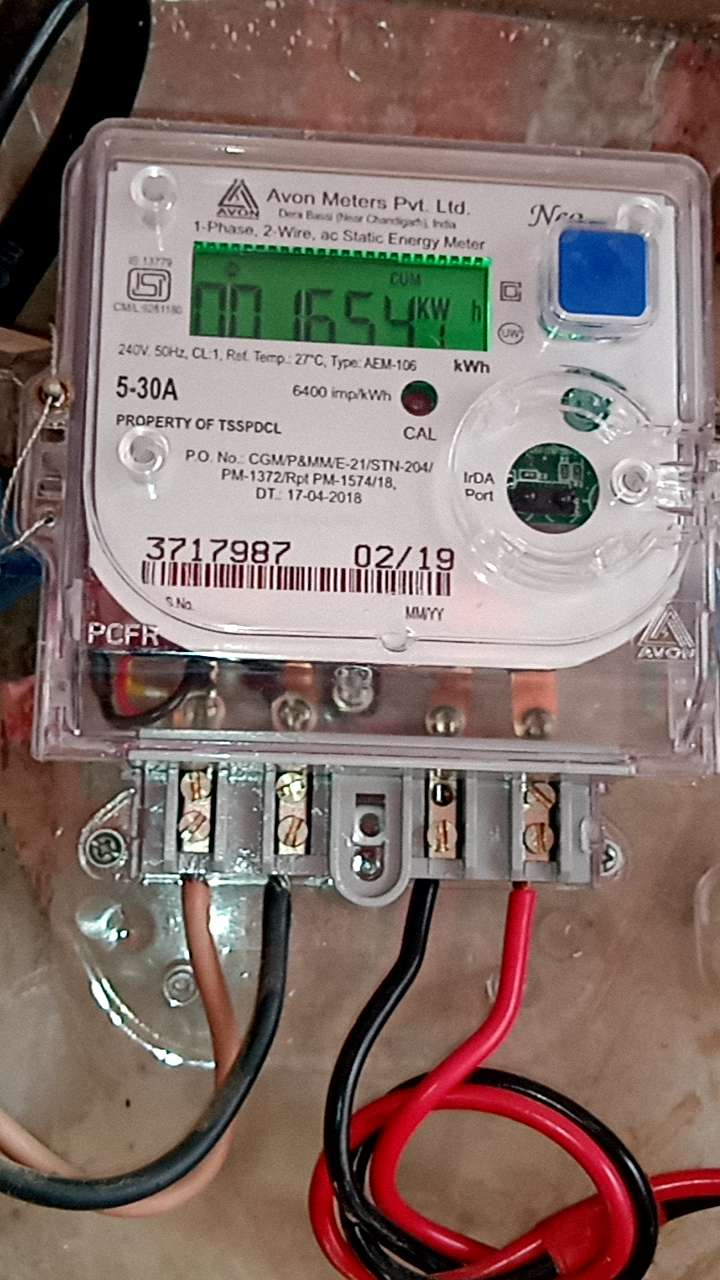meter_serial_number: (139, 529, 298, 567)
